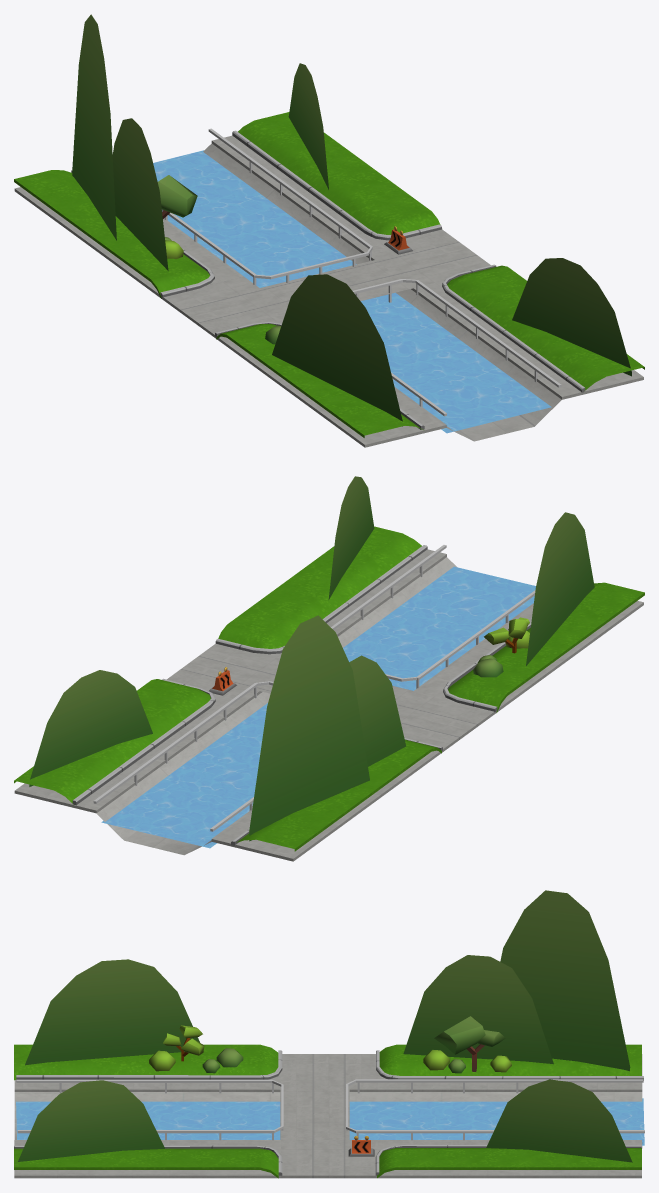
Rendered from L2 Waterway V2.fbx.
3 renders of one model, top to bottom at view 1: azimuth 30°, elevation 25°; view 2: azimuth 150°, elevation 25°; view 3: azimuth 270°, elevation 25°, orthographic. The views are drawn at different scales.
Parts seen in each view (by area): view 1: pPlane1547, pasted__pasted__pCube5661, pCube13443, pCube13433, pCube13415, pasted__pasted__pCube5654, pasted__pasted__pCube5660, pCube13418, pCube13440, pCube13410, pasted__pasted__pCube5662, pCube13439 (+7 smaller); view 2: pPlane1547, pasted__pasted__pCube5660, pCube13433, pCube13443, pCube13410, pasted__pasted__pCube5653, pCube13439, pCube13415, pasted__pasted__pCube5661, pCube13440, pCube13418, pasted__pasted__pCube5662 (+7 smaller); view 3: pasted__pasted__pCube5660, pasted__pasted__pCube5661, pPlane1547, pasted__pasted__pCube5662, pCube13443, pasted__pasted__pCube5654, pasted__pasted__pCube5653, pCube13433, pCube13415, pCube13439, pCube13410, pCube13440 (+13 smaller).
Boxes of the visible parts, x1,y1,x2,y2 form: pPlane1547: (153, 150, 551, 433); pasted__pasted__pCube5661: (272, 274, 402, 426); pCube13443: (211, 135, 643, 399); pCube13433: (14, 187, 446, 447); pCube13415: (238, 112, 440, 234); pasted__pasted__pCube5654: (512, 258, 631, 376); pasted__pasted__pCube5660: (72, 14, 116, 240); pCube13418: (14, 170, 209, 298); pCube13440: (203, 143, 561, 441); pCube13410: (447, 265, 644, 390); pasted__pasted__pCube5662: (112, 118, 168, 270); pCube13439: (216, 324, 423, 437); pPlane1547: (101, 566, 535, 848); pasted__pasted__pCube5660: (249, 615, 369, 841); pCube13433: (211, 601, 643, 861); pCube13443: (14, 549, 446, 813); pCube13410: (218, 526, 421, 648); pasted__pasted__pCube5653: (29, 670, 152, 786); pCube13439: (448, 582, 644, 712); pCube13415: (14, 679, 210, 804); pasted__pasted__pCube5661: (526, 512, 594, 665); pCube13440: (96, 557, 456, 855); pCube13418: (236, 739, 441, 851); pasted__pasted__pCube5662: (349, 655, 405, 766); pasted__pasted__pCube5660: (500, 890, 630, 1071); pasted__pasted__pCube5661: (25, 959, 199, 1065); pPlane1547: (16, 1098, 644, 1145); pasted__pasted__pCube5662: (403, 955, 553, 1064); pCube13443: (14, 1140, 641, 1178); pasted__pasted__pCube5654: (18, 1080, 164, 1161); pasted__pasted__pCube5653: (486, 1079, 632, 1162); pCube13433: (14, 1054, 642, 1091); pCube13415: (377, 1148, 641, 1178); pCube13439: (14, 1044, 278, 1080); pCube13410: (14, 1148, 278, 1178); pCube13440: (14, 1092, 642, 1148).
Bounding box in the file's own units: 12.28 × 9.2 × 26.69.
2 materials, 2 textured.
